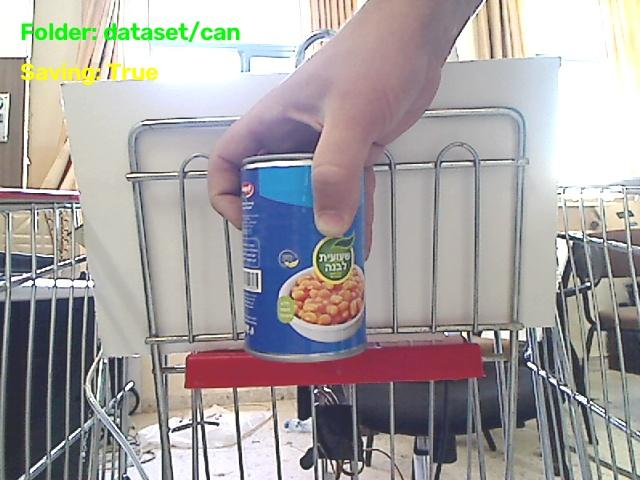can: (242, 154, 365, 361)
